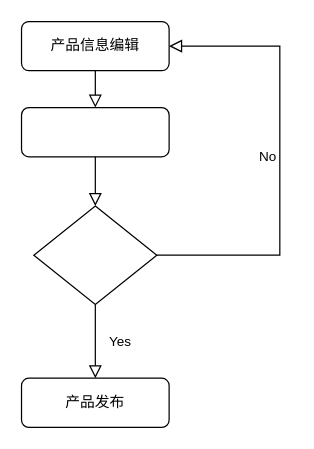
The diagram is 314 pixels wide and 449 high, and some of its shapes have lost their labels. Here are the shapes that lost their labels. From the top down, the centre of each, then its label:
(94,131): 产品服务编排
(95,254): 审核合格？
